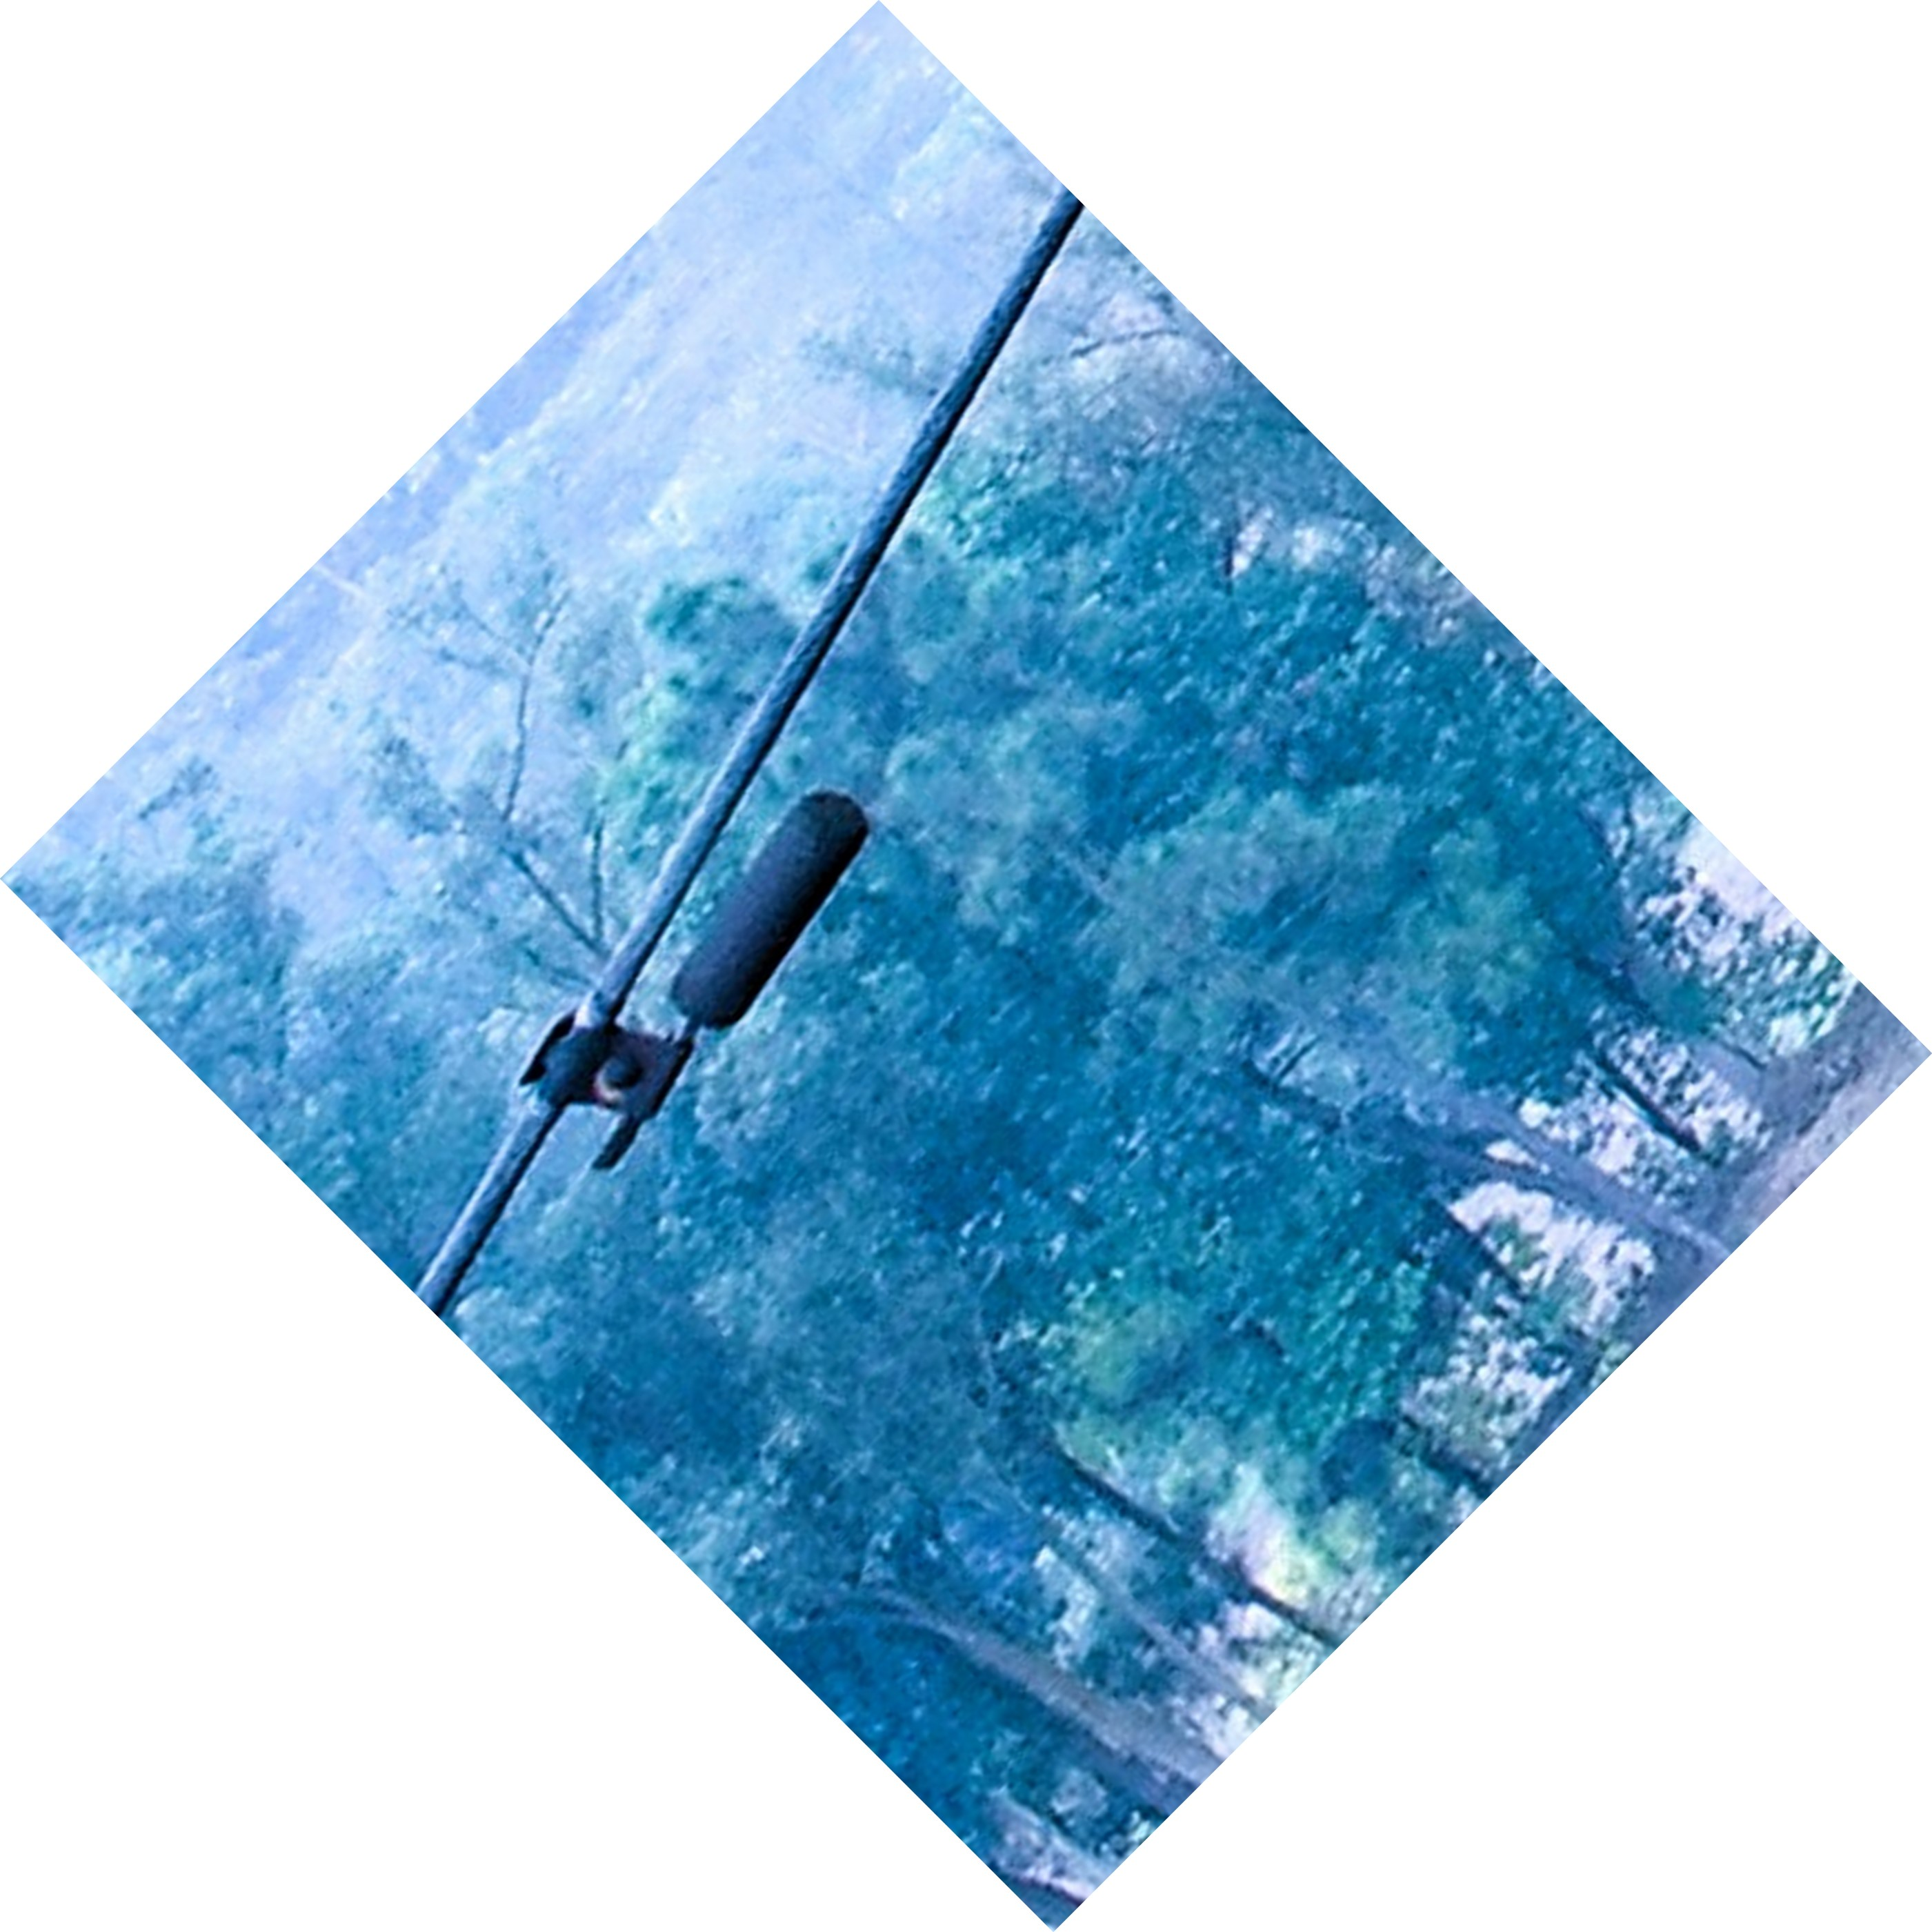Damage of shockproof hammer: (508, 755, 943, 1205)
